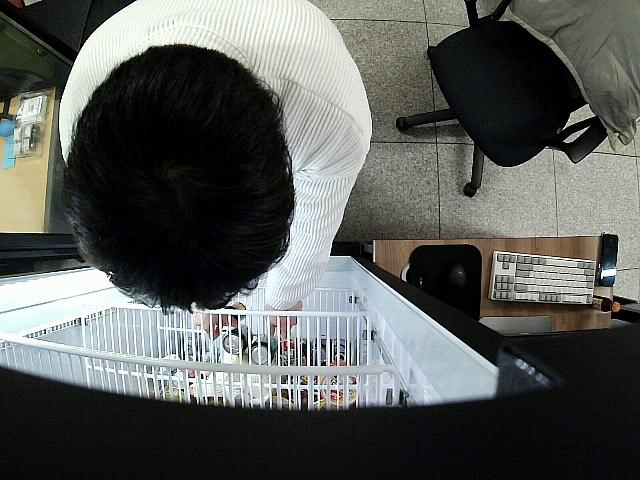00_hand: (191, 308, 234, 340), (264, 305, 297, 341)
17_vita500: (219, 302, 246, 329)
